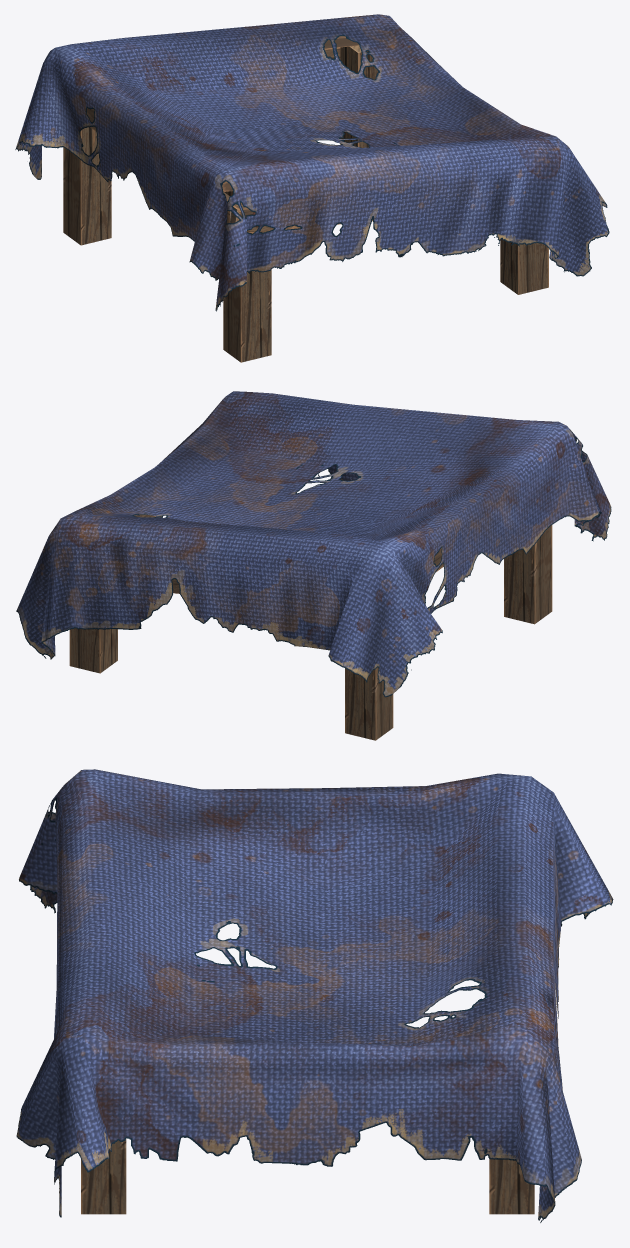
File: tower_top_A.FBX
The picture shows the model from 3 angles, top to bottom: view 1: azimuth 30°, elevation 25°; view 2: azimuth 150°, elevation 25°; view 3: azimuth 270°, elevation 25°; orthographic projection. The views are drawn at different scales.
Visible parts, largest first — view 1: tower_top_A_roof, tower_top_A; view 2: tower_top_A_roof, tower_top_A; view 3: tower_top_A_roof, tower_top_A.
Boxes of the visible parts, x1,y1,x2,y2 form: tower_top_A_roof: [15, 14, 609, 311]; tower_top_A: [63, 36, 548, 362]; tower_top_A_roof: [16, 391, 611, 697]; tower_top_A: [69, 514, 552, 740]; tower_top_A_roof: [16, 769, 613, 1222]; tower_top_A: [81, 1139, 534, 1214].
Size of the model in its own units: 417 by 185 by 398.
